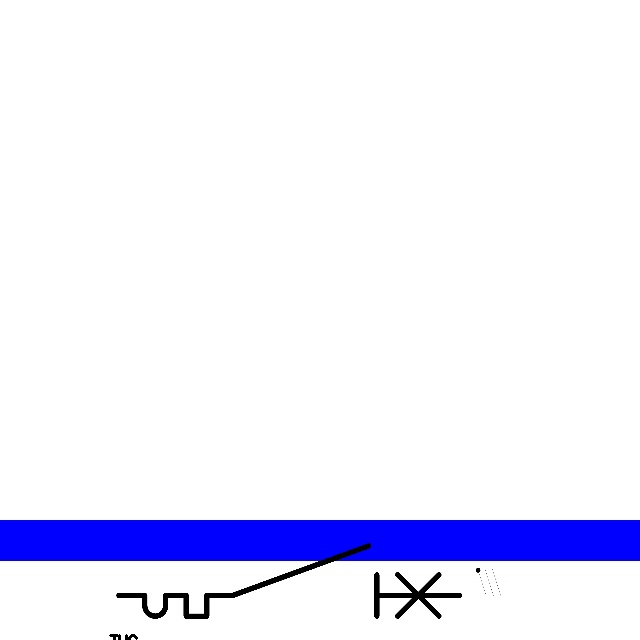interruptor_termomagnetico: (110, 537, 468, 625)
